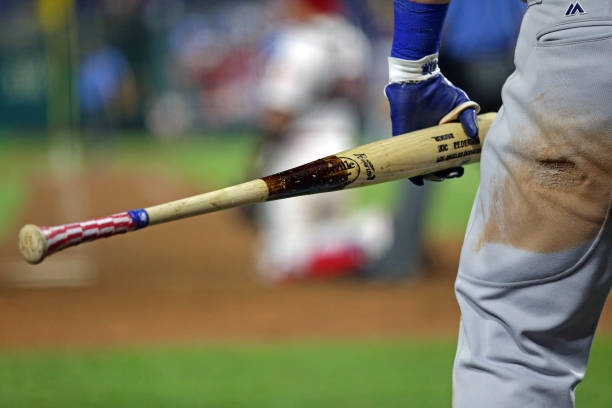bita: (15, 113, 501, 276)
